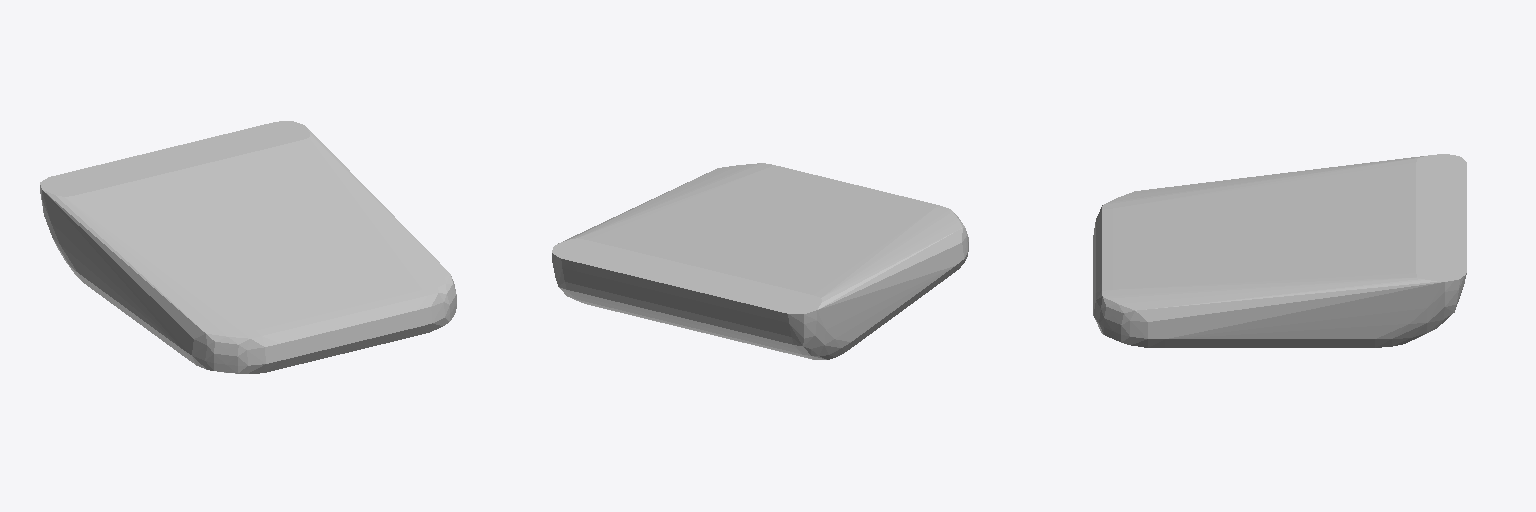
Rendered from Soap_Bottle_10_collision_3.obj.
The picture shows the model from 3 angles: view 1: azimuth 30°, elevation 25°; view 2: azimuth 150°, elevation 25°; view 3: azimuth 270°, elevation 25°; orthographic projection.
Bounding box in the file's own units: 0.0542 × 0.0151 × 0.0667.